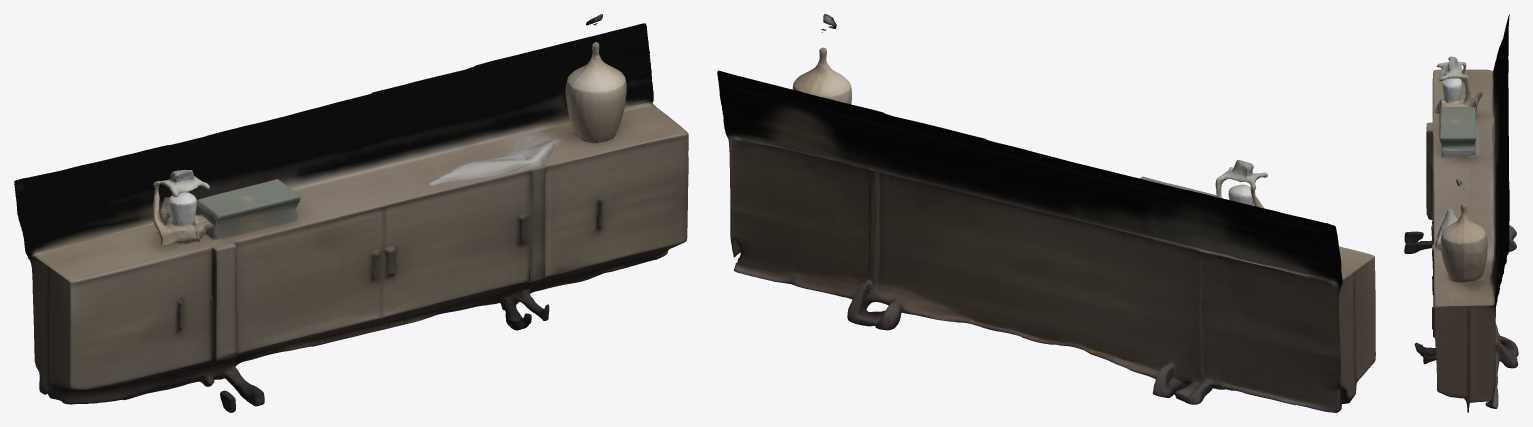
File: trellis.glb
The picture shows the model from 3 angles, left to right: view 1: azimuth 30°, elevation 25°; view 2: azimuth 150°, elevation 25°; view 3: azimuth 270°, elevation 25°; orthographic projection. The views are drawn at different scales.
Visible parts, largest first — view 1: world; view 2: world; view 3: world.
Boxes of the visible parts, box(x1,y1,x2,y2) form: world: box(14, 14, 688, 412); world: box(717, 14, 1375, 412); world: box(1404, 14, 1518, 412).
Bounding box in the file's own units: 1 × 0.4172 × 0.2008.
